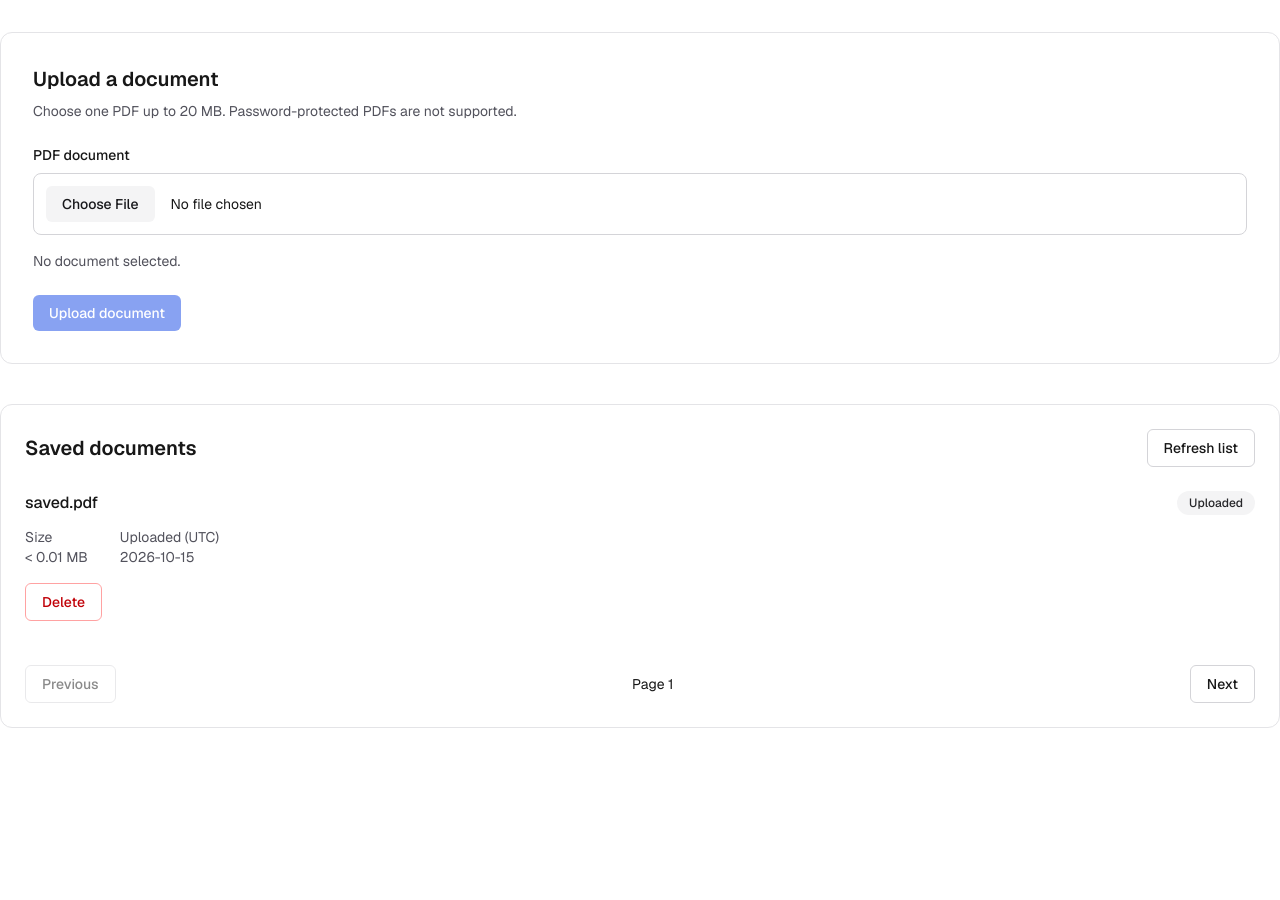
Test: document workspace › requests the next page and can return to the previous page
Check: the heading "saved.pdf" is shown, box [25,491,98,515]
Click the button "Next" at (1222, 684), box [1190,665,1255,703]
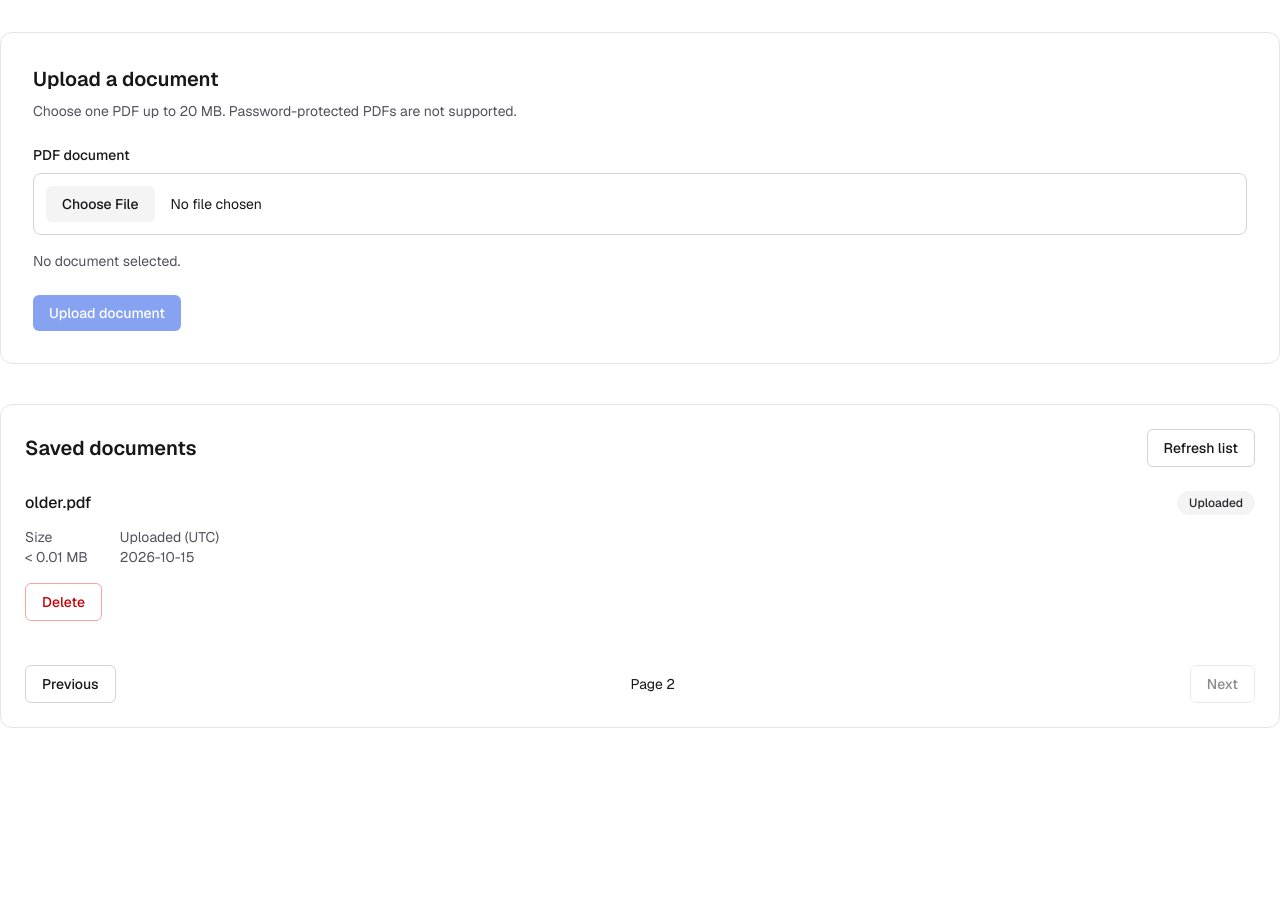
Check: the heading "older.pdf" is shown, box [25,491,91,515]
Check: the text "Page 2" is shown, box [630,674,675,694]
Click the button "Previous" at (70, 684), box [25,665,116,703]
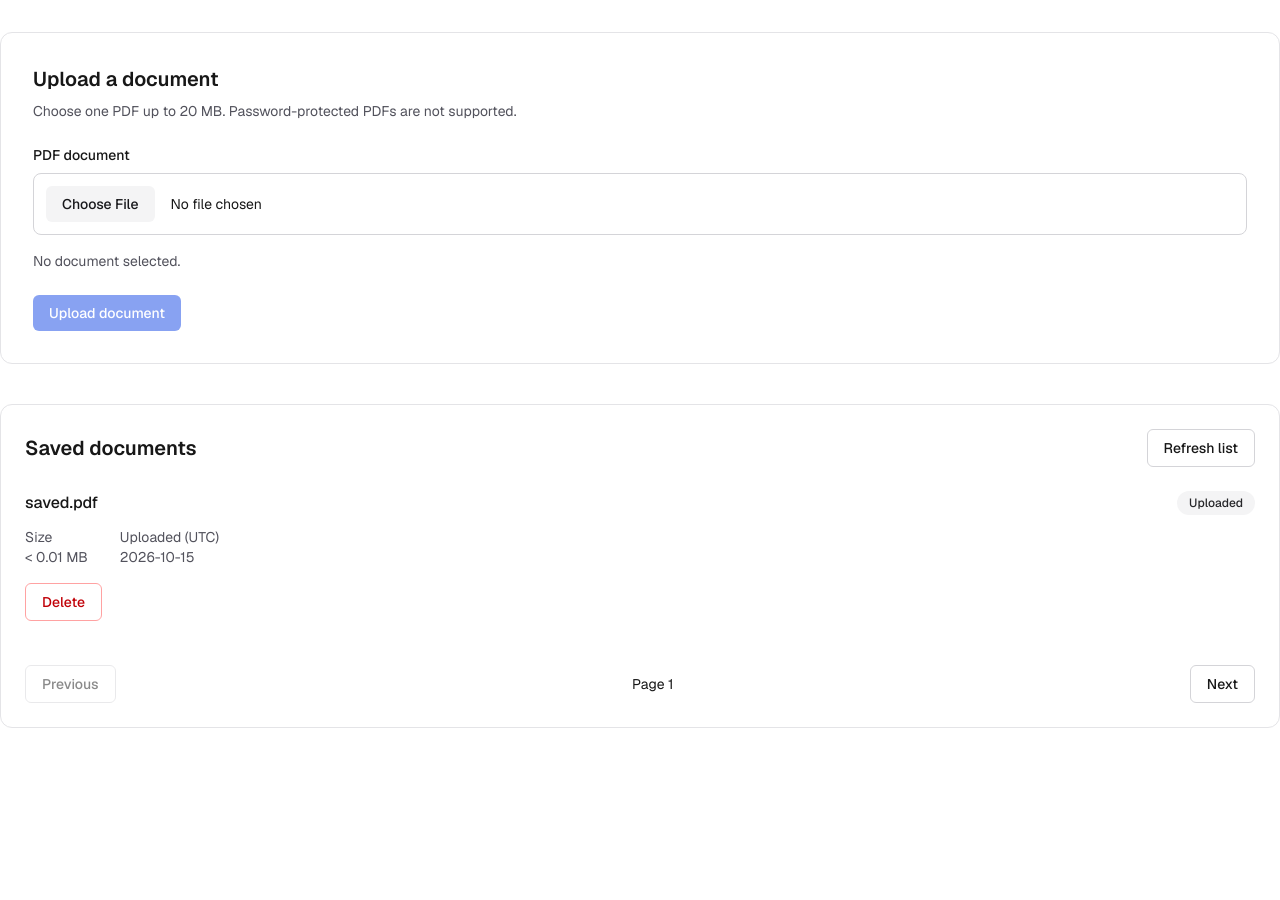
Check: the heading "saved.pdf" is shown, box [25,491,98,515]
